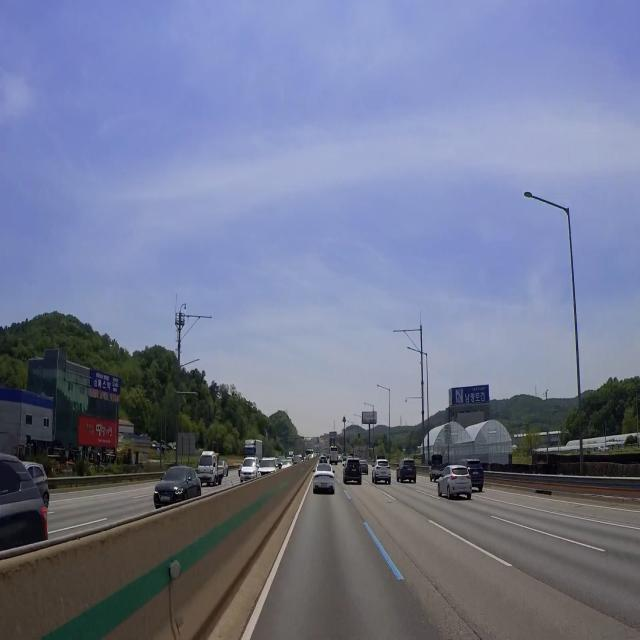car: (158, 489, 172, 507), (456, 483, 469, 498), (470, 466, 483, 480), (348, 467, 361, 479), (318, 480, 329, 493), (379, 469, 390, 481), (406, 467, 414, 477)
